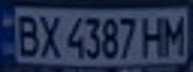3: (81, 13, 103, 60)
4: (63, 12, 84, 60)
7: (118, 13, 142, 60)
8: (100, 13, 121, 60)
B: (9, 10, 42, 57)
H: (139, 12, 169, 59)
M: (160, 11, 190, 56)
X: (33, 11, 63, 58)
